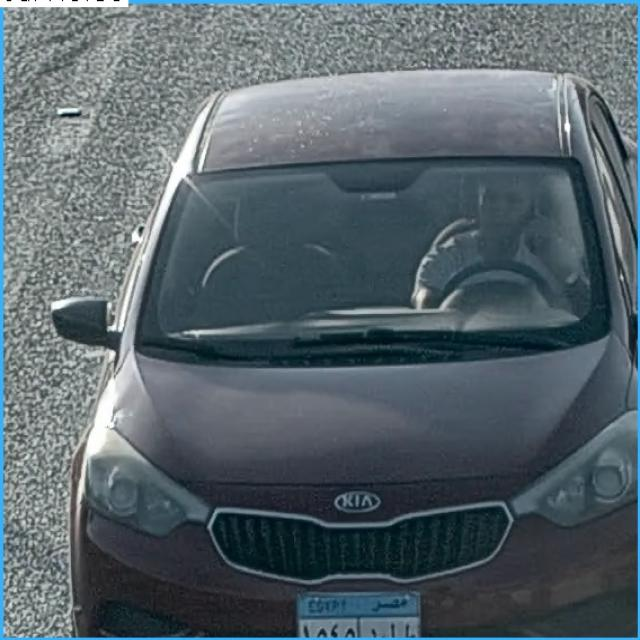windshield: (144, 172, 598, 340)
